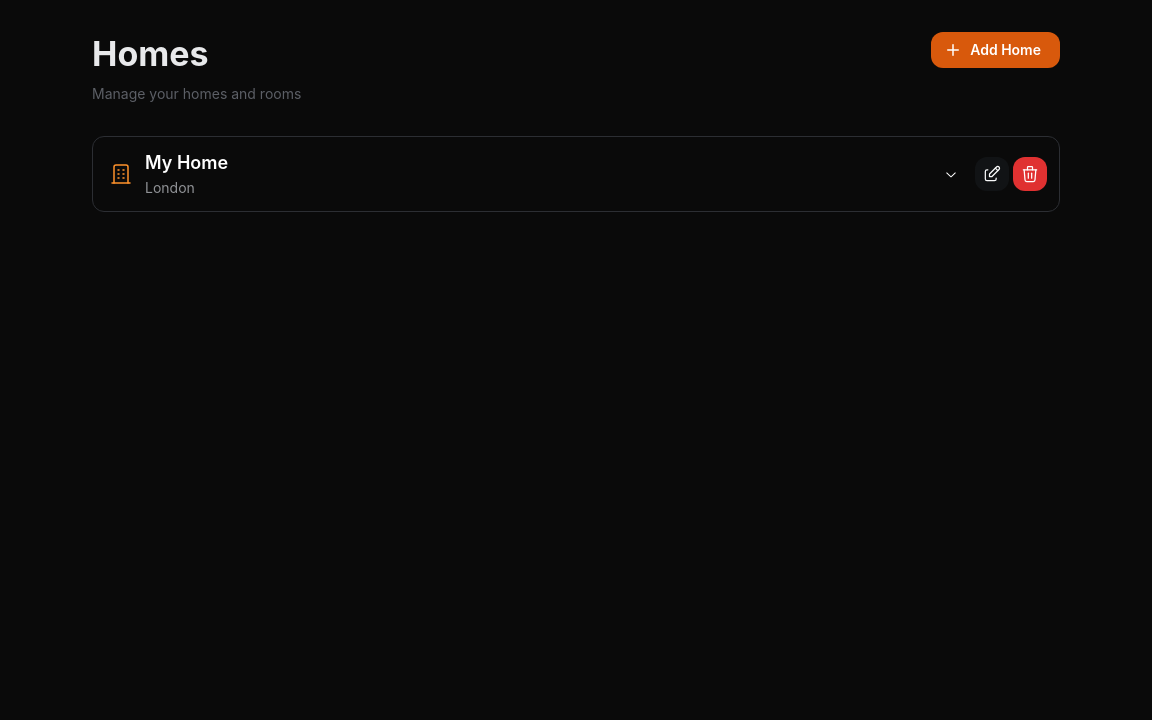
Homes › opens the Add Room modal when Add Room is clicked (handleOpenRoomModal add)
The image size is (1152, 720).
Click the text "My Home": click(187, 164) [145, 150, 228, 178]
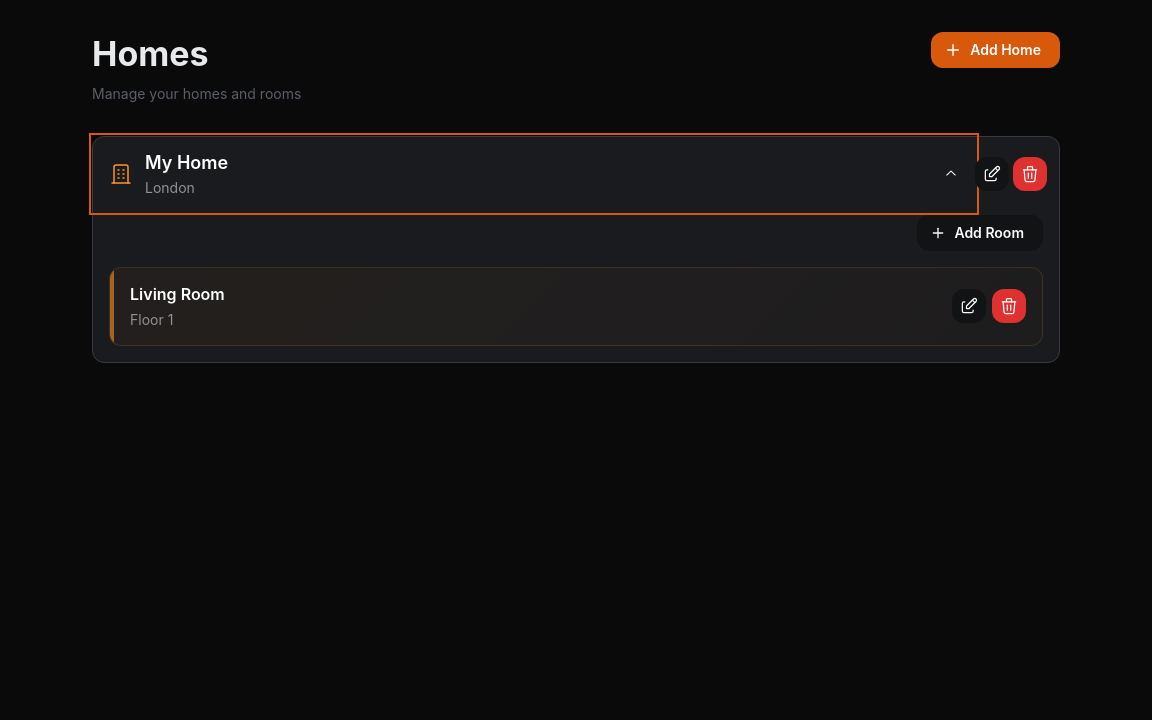
Click the button "Add Room": click(980, 233) [917, 215, 1043, 251]
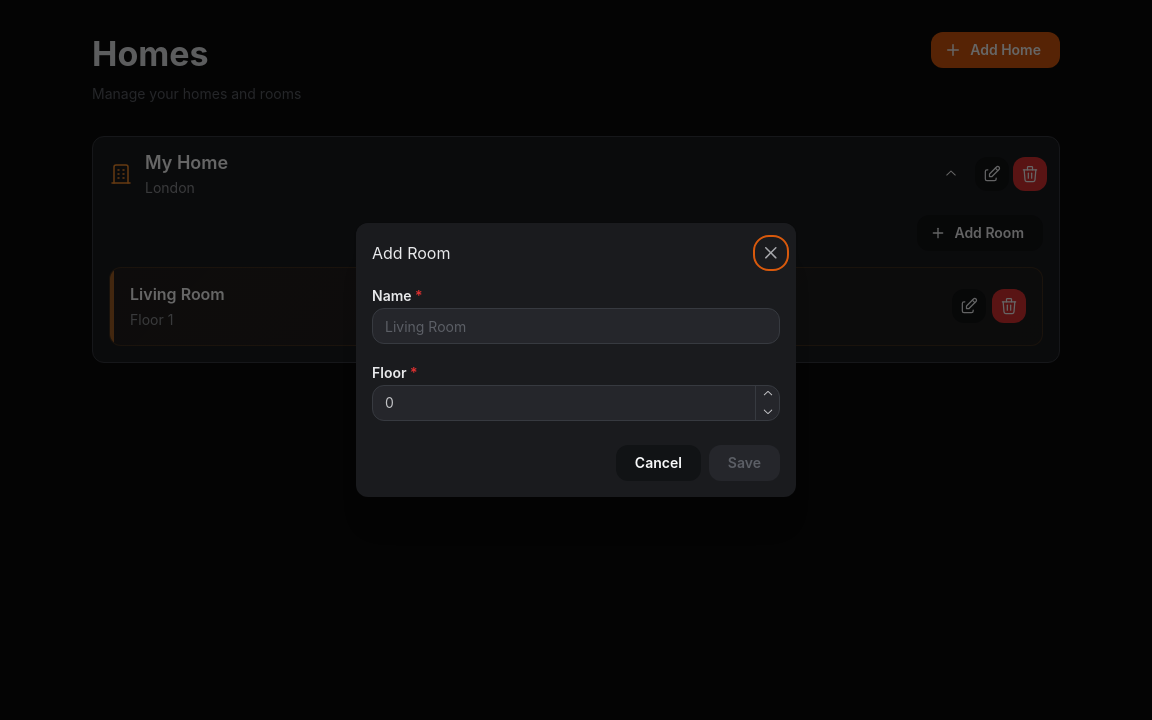
Expected: the heading "Add Room" is shown, [372, 245, 450, 261]
